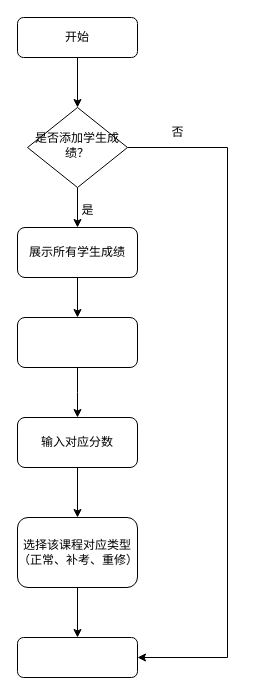
The diagram is 253 pixels wide and 695 high, and some of its shapes have lost their labels. The centre of each missing label's shape, as x and y in pixels:
按照课程分组选择学生: the point at 77,342
结束: the point at 77,657
